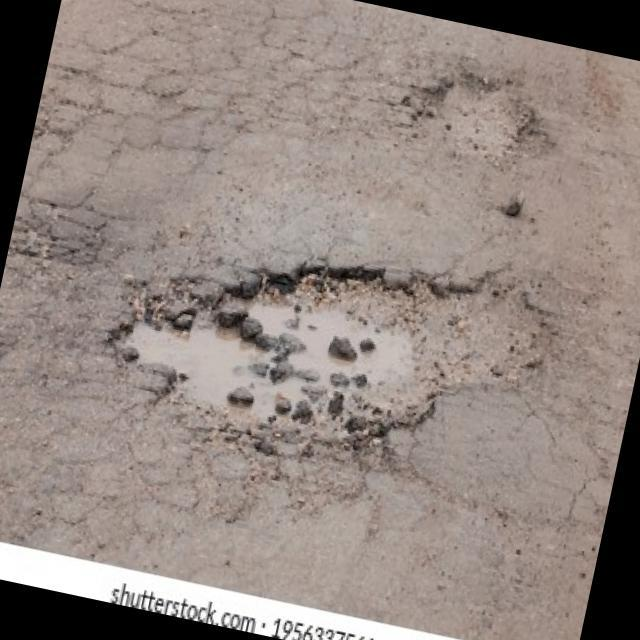Pothole: (92, 196, 558, 503), (397, 58, 544, 178)
